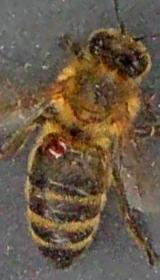varroa_mite: (42, 136, 75, 164)
